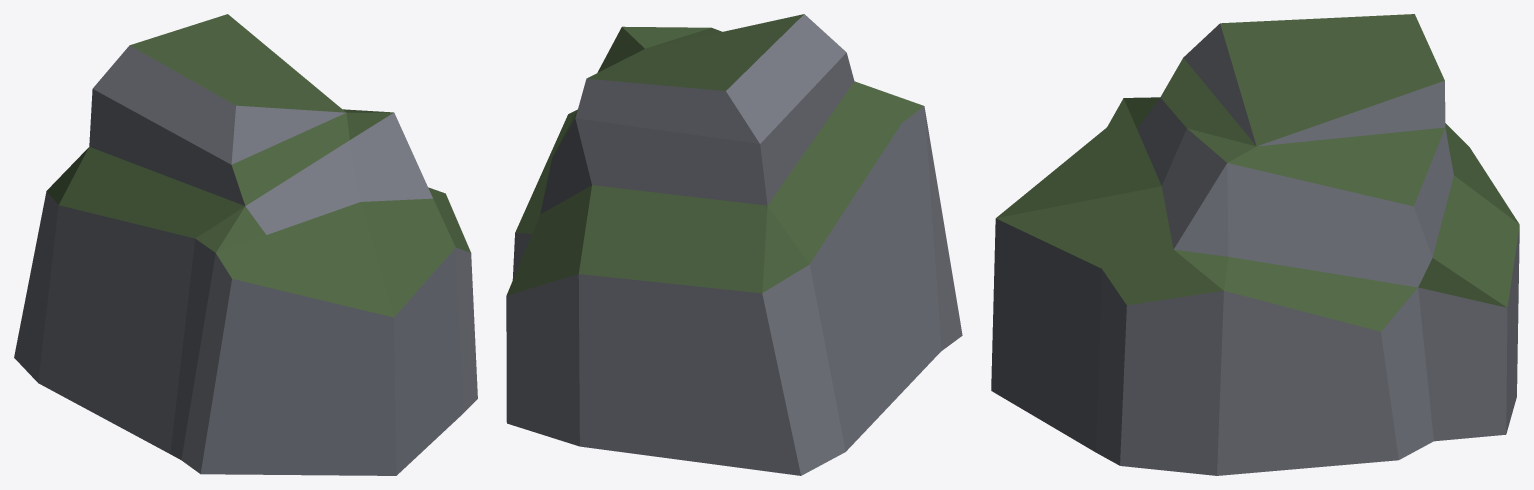
The model's file is Rock_Moss_7.gltf.
The picture shows the model from 3 angles, left to right: view 1: azimuth 30°, elevation 25°; view 2: azimuth 150°, elevation 25°; view 3: azimuth 270°, elevation 25°; orthographic projection. The views are drawn at different scales.
Parts seen in each view (by area): view 1: Rock_Moss_7; view 2: Rock_Moss_7; view 3: Rock_Moss_7.
Boxes of the visible parts, box(x1,y1,x2,y2) form: Rock_Moss_7: box(14, 14, 477, 475); Rock_Moss_7: box(506, 14, 962, 475); Rock_Moss_7: box(991, 14, 1519, 475).
Bounding box in the file's own units: 0.8755 × 0.7739 × 1.1.
